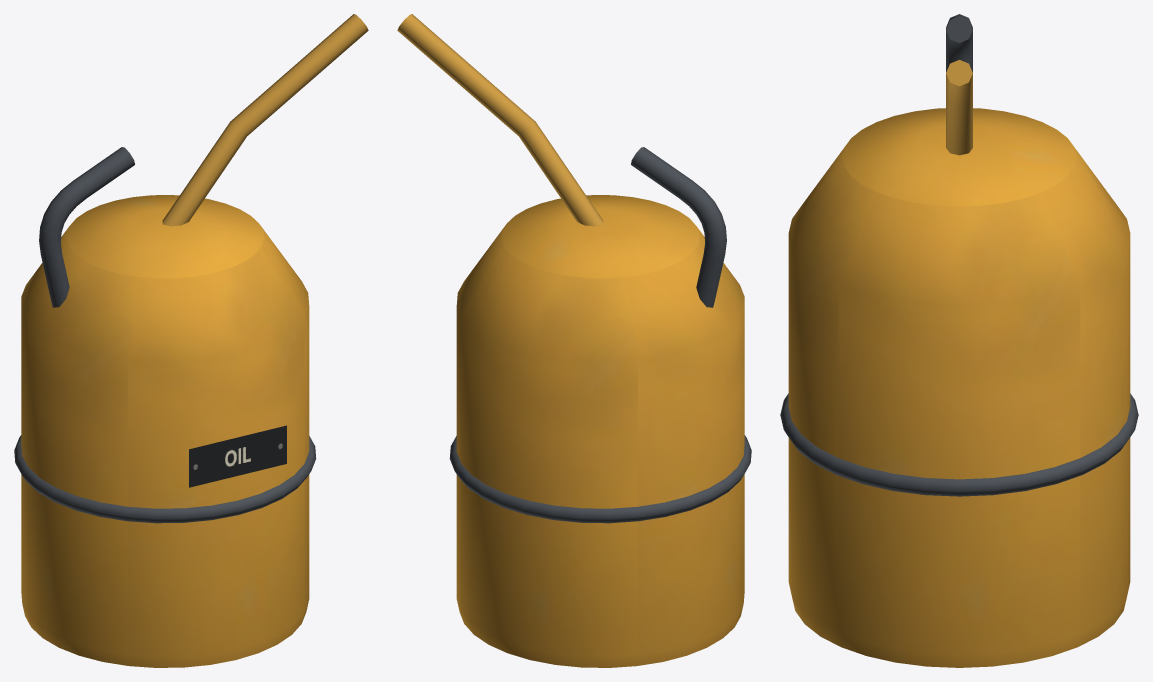
Rendered from OilCan.glb.
3 views of the same model, side by side, from view 1: azimuth 30°, elevation 25°; view 2: azimuth 150°, elevation 25°; view 3: azimuth 270°, elevation 25° (orthographic). The views are drawn at different scales.
Visible parts, largest first — view 1: OilCan_Body; view 2: OilCan_Body; view 3: OilCan_Body.
Boxes of the visible parts, <box> form: OilCan_Body: <box>14,14,368,667</box>; OilCan_Body: <box>397,14,751,667</box>; OilCan_Body: <box>780,14,1138,667</box>.
Size of the model in its own units: 0.2711 by 0.4269 by 0.214.
4 materials, 2 textured.
